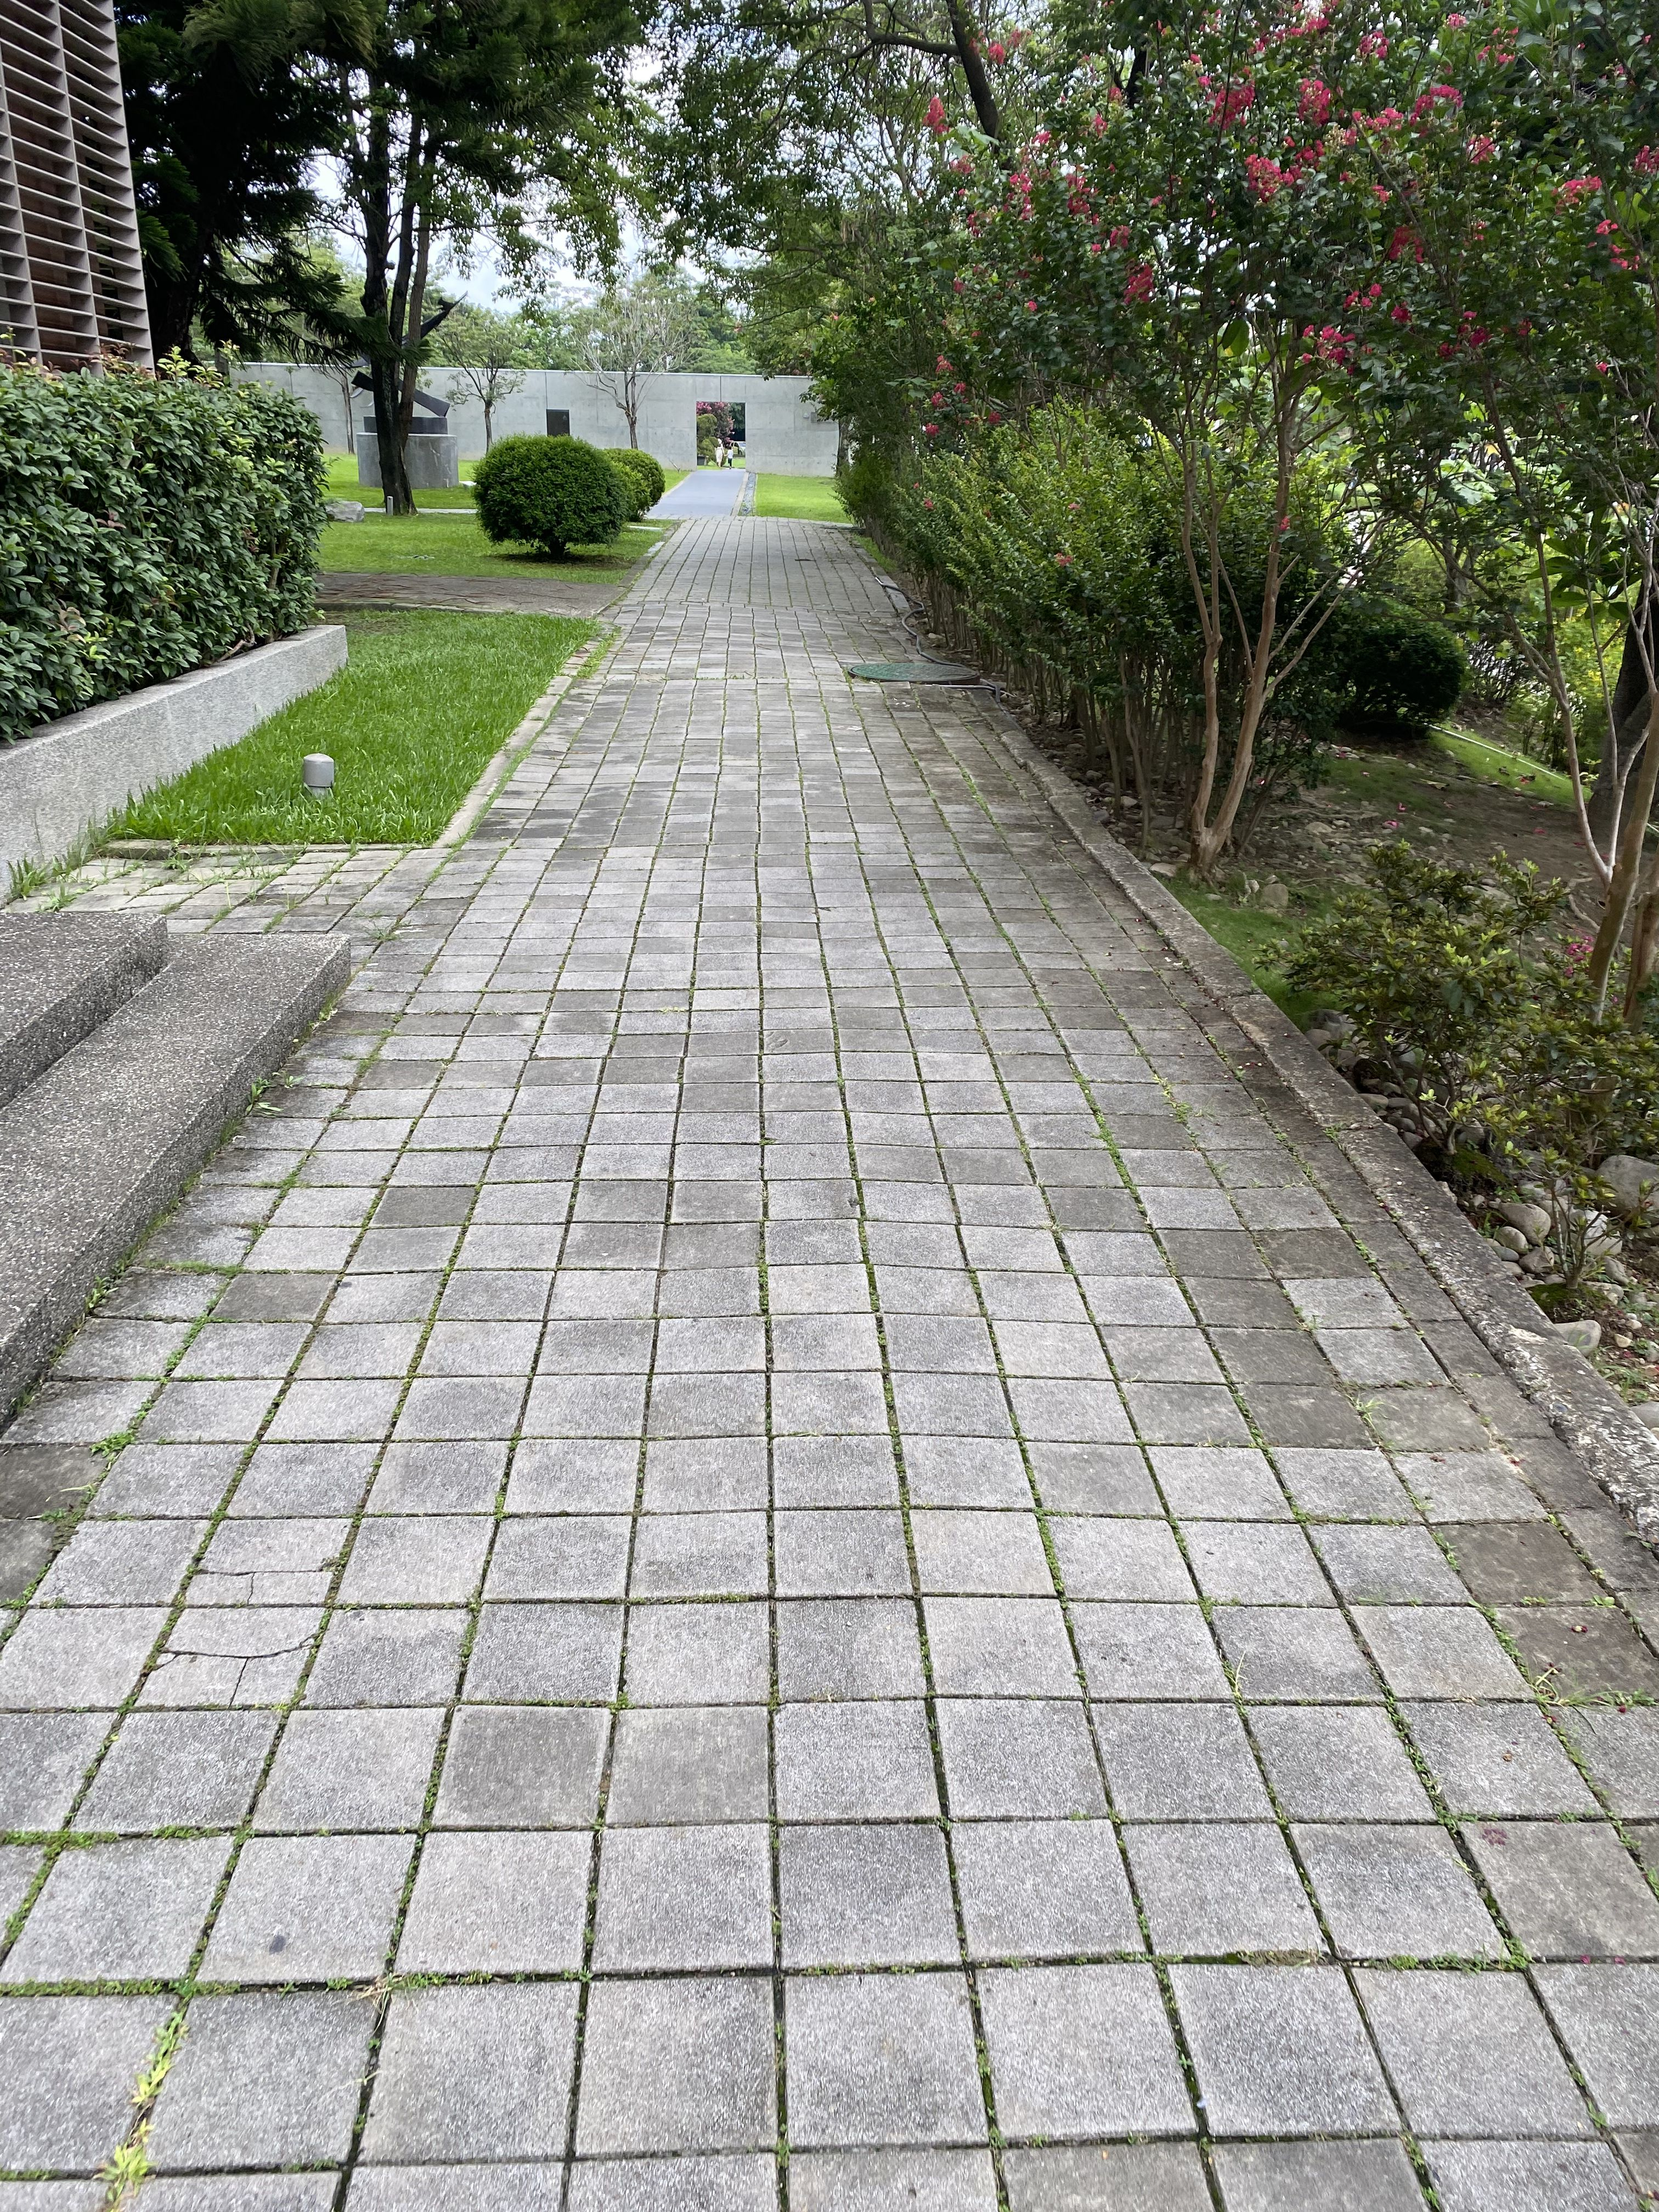0: (0, 578, 728, 2212)
sidewalk: (652, 507, 1659, 2212)
